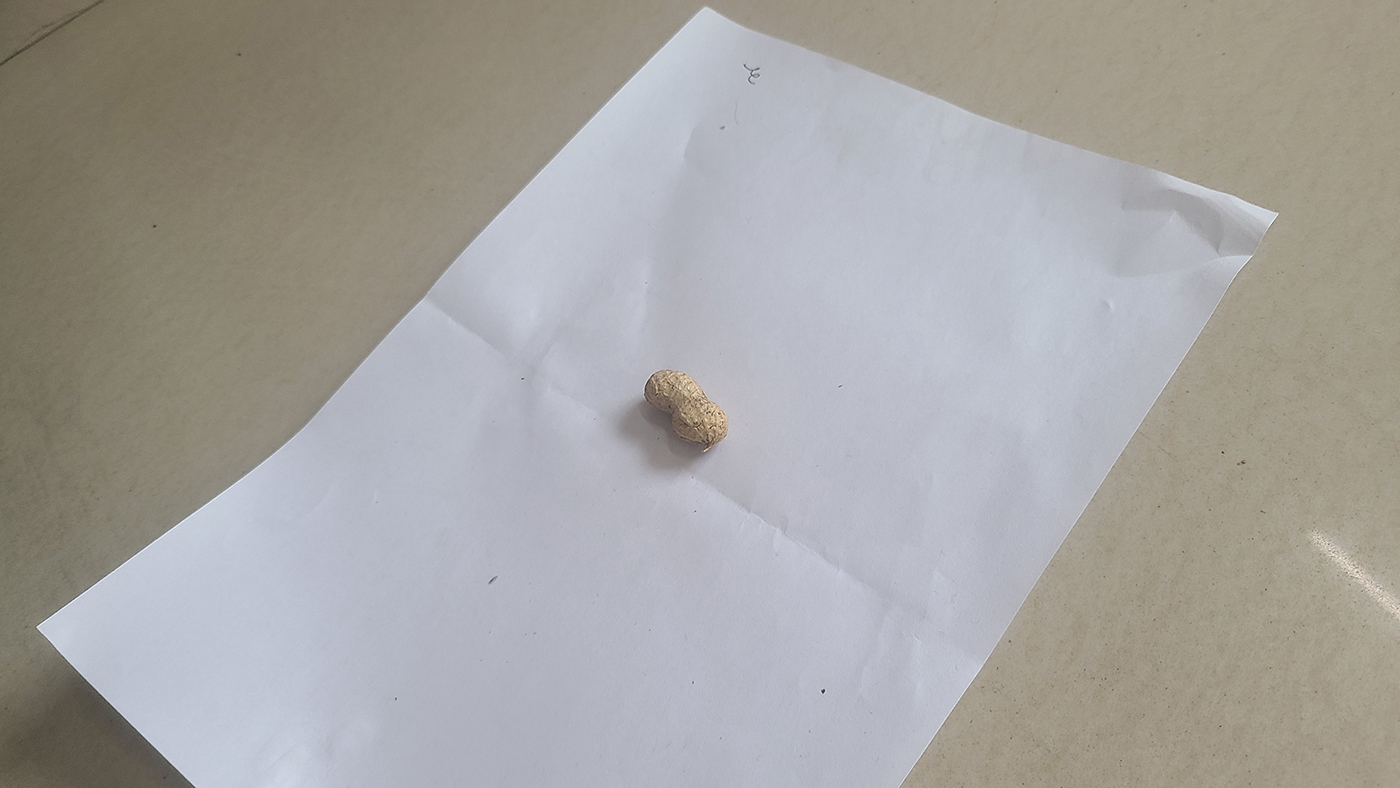h: (643, 368, 730, 447)
